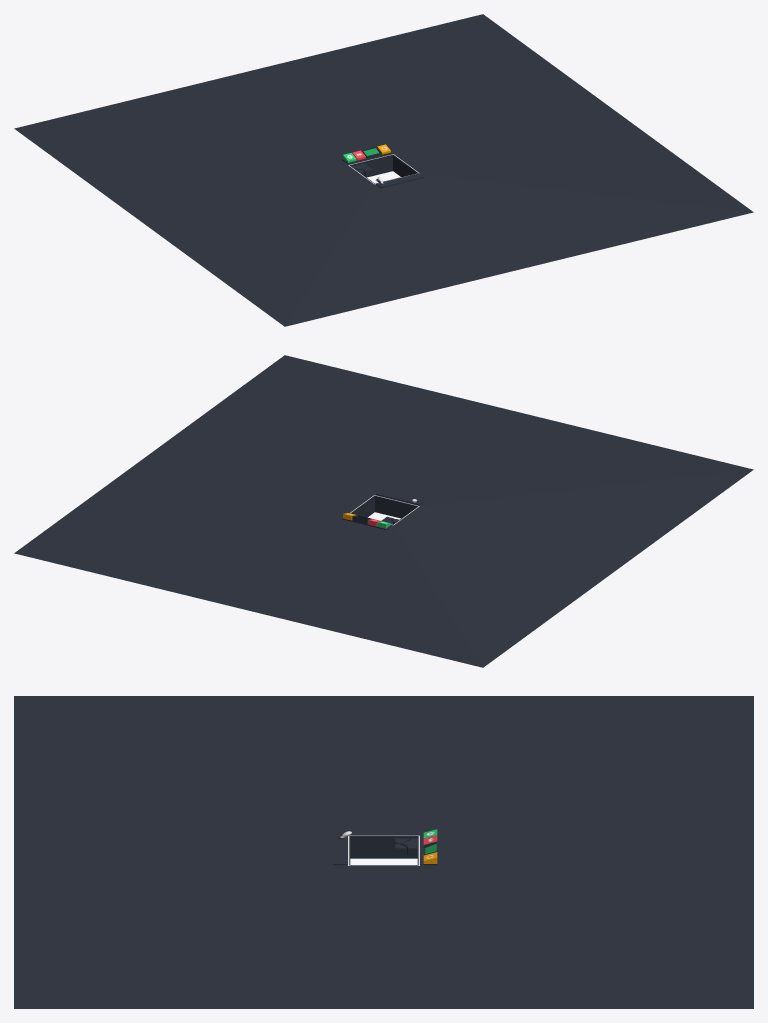
Rendered from border2.fbx.
3 views of the same model, one above another, from view 1: azimuth 30°, elevation 25°; view 2: azimuth 150°, elevation 25°; view 3: azimuth 270°, elevation 25° (orthographic). The views are drawn at different scales.
Visible parts, largest first — view 1: Border; view 2: Border; view 3: Border.
Part boxes in pixels (x1=…): Border: x1=14, y1=14, x2=753, y2=326; Border: x1=14, y1=355, x2=753, y2=667; Border: x1=14, y1=696, x2=753, y2=1008.
Size of the model in its own units: 32.83 by 1.45 by 32.83.
